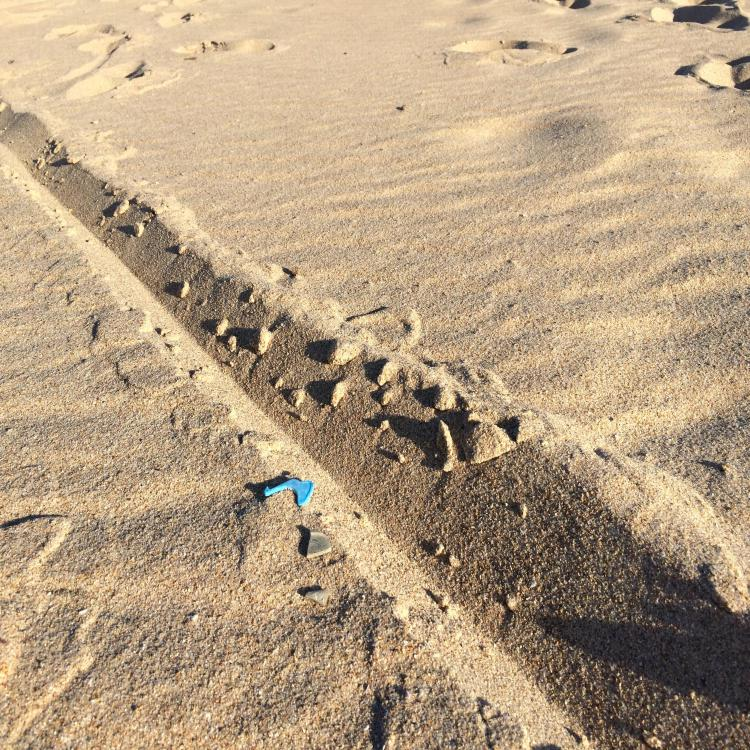Other plastic wrapper: (264, 479, 314, 507)
